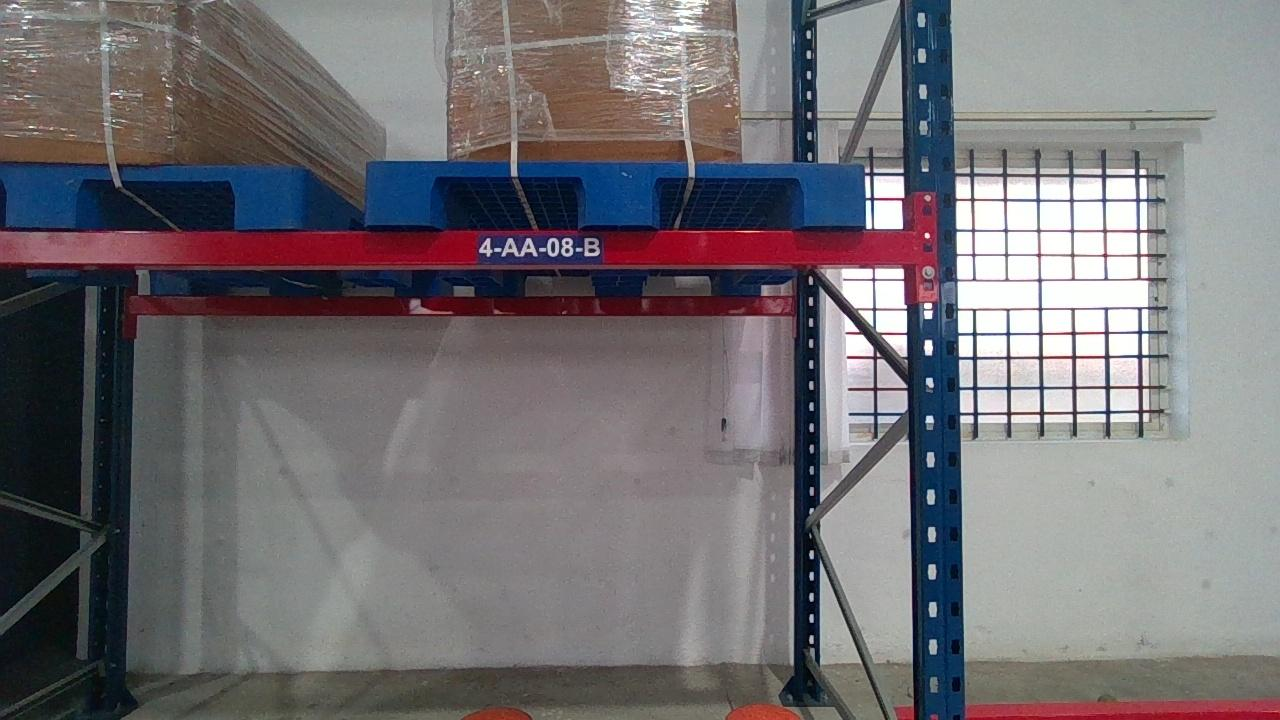h_rack: (2, 226, 921, 266)
small_pallet: (365, 158, 868, 223), (0, 164, 305, 225)
